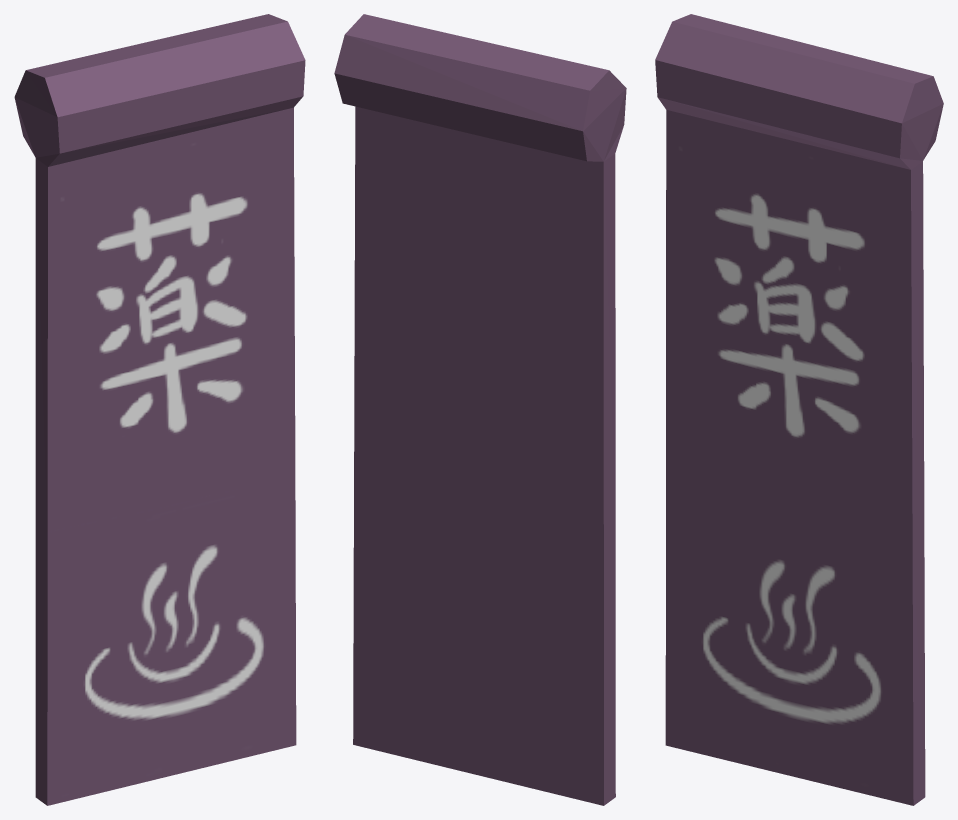
Rendered from MarketStall_Flag_Medicine.fbx.
3 renders of one model, left to right at view 1: azimuth 30°, elevation 25°; view 2: azimuth 150°, elevation 25°; view 3: azimuth 330°, elevation 25°, orthographic.
Parts seen in each view (by area): view 1: MarketStall_Flag_Medicine; view 2: MarketStall_Flag_Medicine; view 3: MarketStall_Flag_Medicine.
Boxes of the visible parts, bbox=[...] form: MarketStall_Flag_Medicine: bbox=[14, 14, 305, 805]; MarketStall_Flag_Medicine: bbox=[334, 14, 626, 805]; MarketStall_Flag_Medicine: bbox=[655, 14, 943, 805].
Bounding box in the file's own units: 0.3827 × 1.06 × 0.1149.
Materials: 1 (1 with a texture image).
